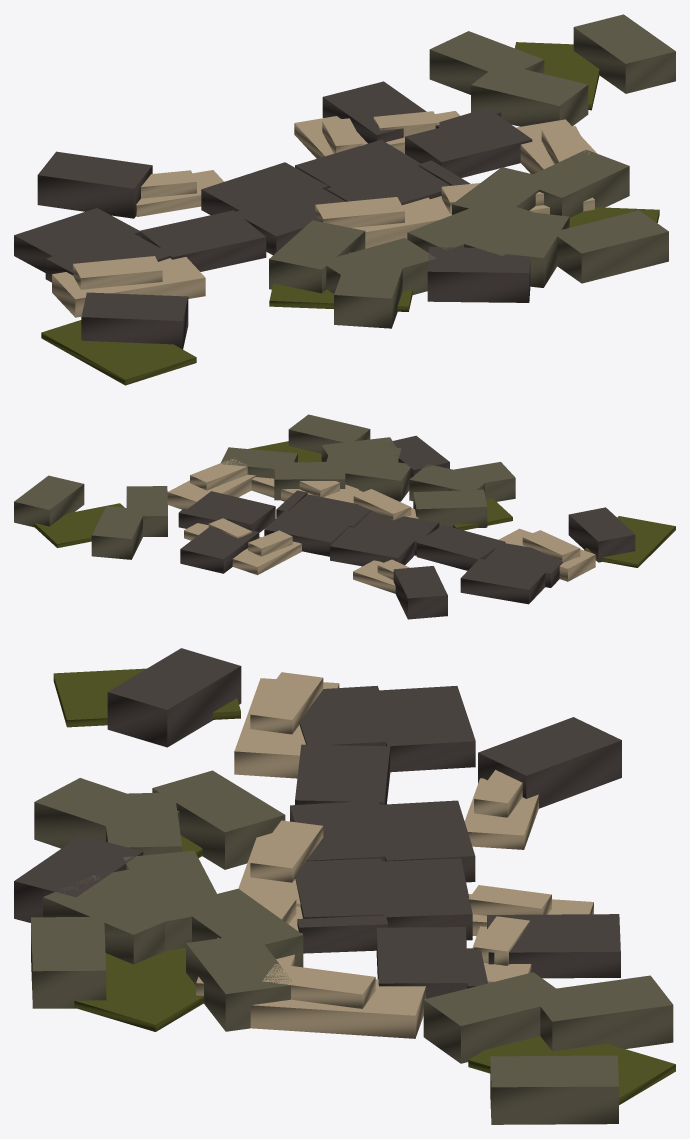
Rendered from SM_SacosRemateEspejo_v4_Red_e3_Brecha_LOD0.fbx.
3 renders of one model, top to bottom at view 1: azimuth 30°, elevation 25°; view 2: azimuth 150°, elevation 25°; view 3: azimuth 270°, elevation 25°, orthographic. The views are drawn at different scales.
Visible parts, largest first — view 1: SM_sacos_piezas_v39_LOD0; view 2: SM_sacos_piezas_v39_LOD0; view 3: SM_sacos_piezas_v39_LOD0.
Boxes of the visible parts, x1=… form: SM_sacos_piezas_v39_LOD0: x1=14, y1=14, x2=675, y2=385; SM_sacos_piezas_v39_LOD0: x1=14, y1=414, x2=675, y2=619; SM_sacos_piezas_v39_LOD0: x1=14, y1=648, x2=675, y2=1124.
Size of the model in its own units: 6.72 by 0.26 by 4.15.
